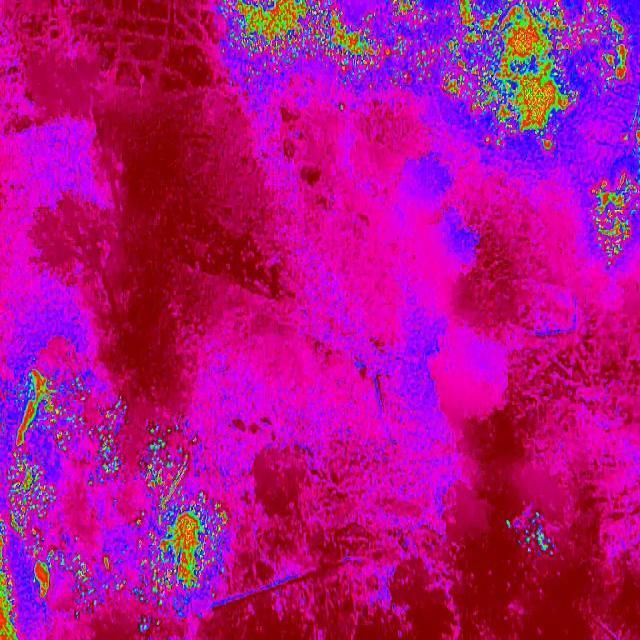fire: (212, 0, 640, 84), (0, 365, 126, 639), (126, 413, 236, 633), (443, 84, 578, 154), (587, 174, 640, 271), (504, 508, 556, 561)
